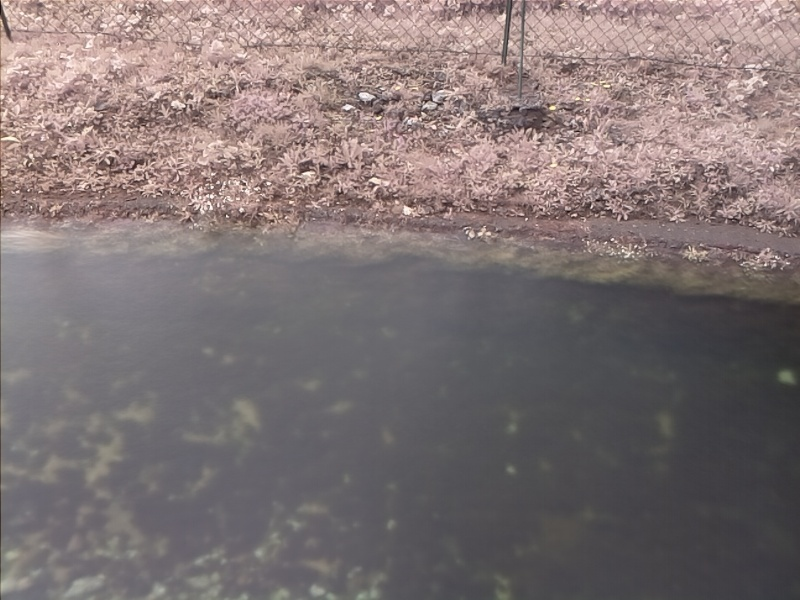Water: (1, 216, 800, 598)
